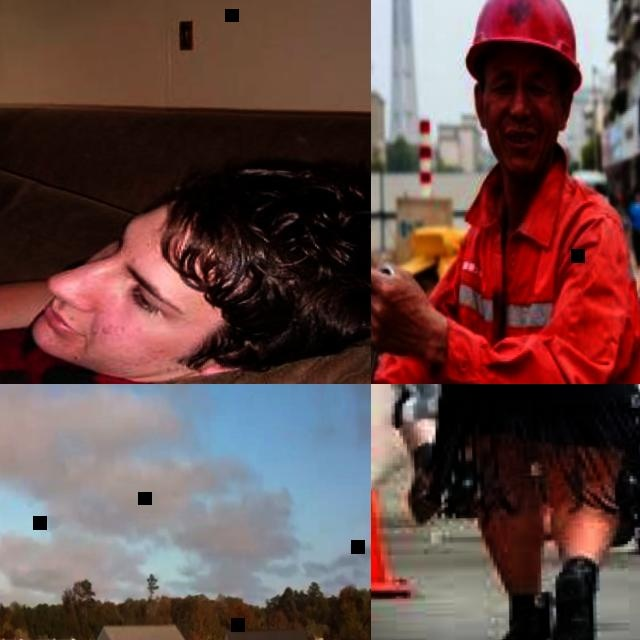Hardhat: (463, 0, 580, 88)
NO-Hardhat: (156, 151, 371, 360), (633, 189, 640, 195)
NO-Mask: (24, 261, 137, 378), (490, 112, 557, 174)
NO-Safety Vest: (0, 323, 95, 384), (628, 187, 640, 263), (630, 205, 640, 229)
Person: (0, 18, 371, 384), (371, 0, 640, 384), (404, 384, 640, 640), (371, 384, 508, 519), (559, 384, 640, 558)
Safety Vest: (448, 140, 640, 384)
